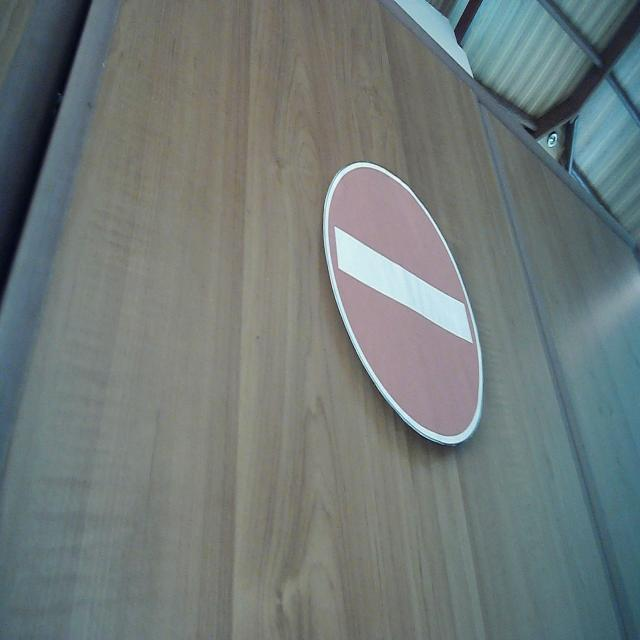no_entry: (320, 158, 486, 450)
